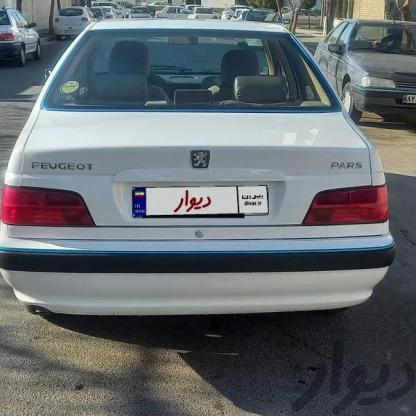Car: (7, 1, 401, 378), (321, 16, 416, 140), (0, 18, 56, 72), (56, 7, 258, 15)
